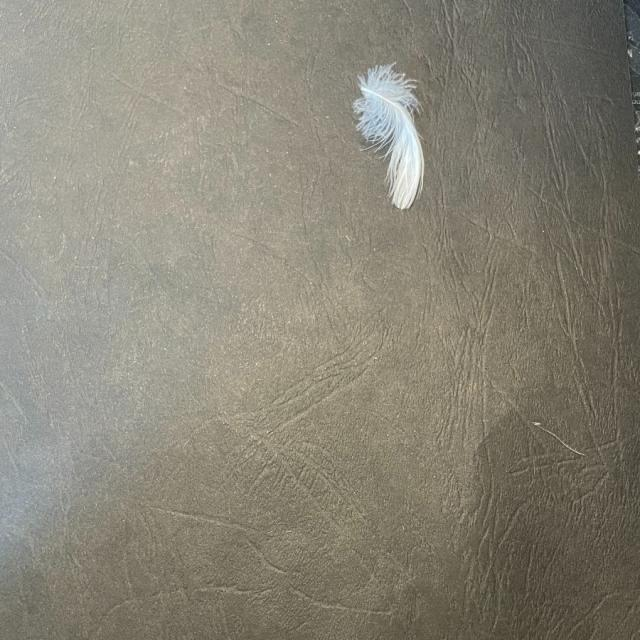feather: (353, 60, 426, 210)
